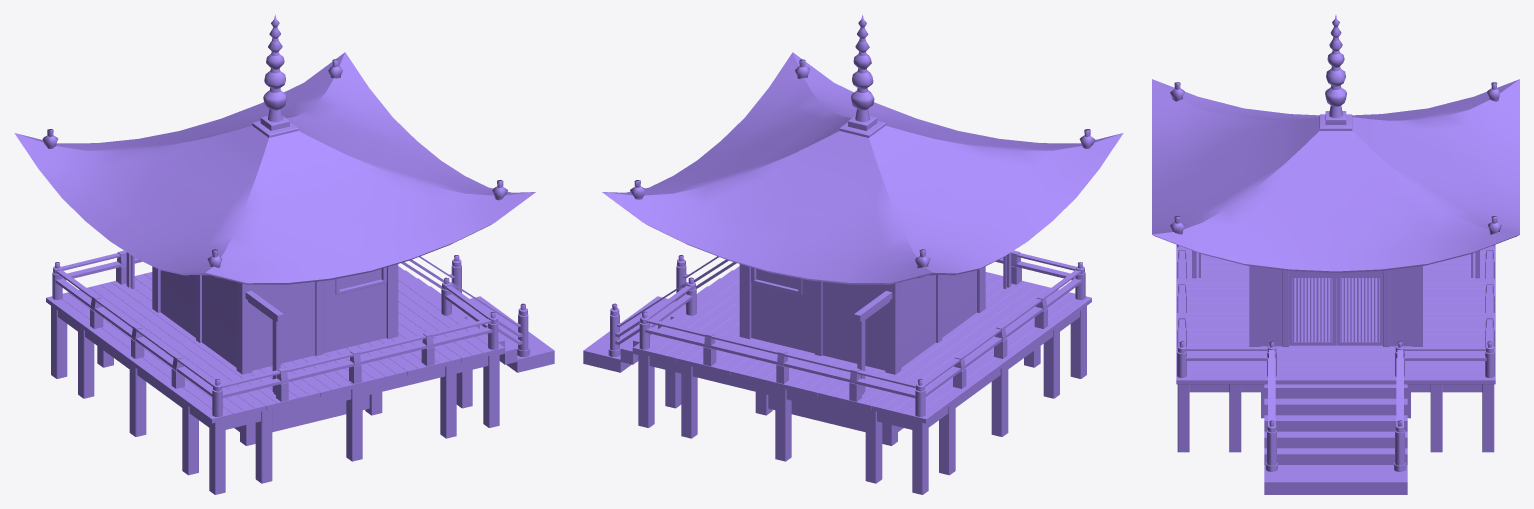
Rendered from temple_combineLOD1.fbx.
3 renders of one model, left to right at view 1: azimuth 30°, elevation 25°; view 2: azimuth 150°, elevation 25°; view 3: azimuth 270°, elevation 25°, orthographic. The views are drawn at different scales.
Parts seen in each view (by area): view 1: temple_combineLOD1; view 2: temple_combineLOD1; view 3: temple_combineLOD1.
Part boxes in pixels (<box>): temple_combineLOD1: <box>14,14,554,494</box>; temple_combineLOD1: <box>583,14,1123,494</box>; temple_combineLOD1: <box>1152,15,1519,494</box>.
Bounding box in the file's own units: 1082 × 981 × 878.
